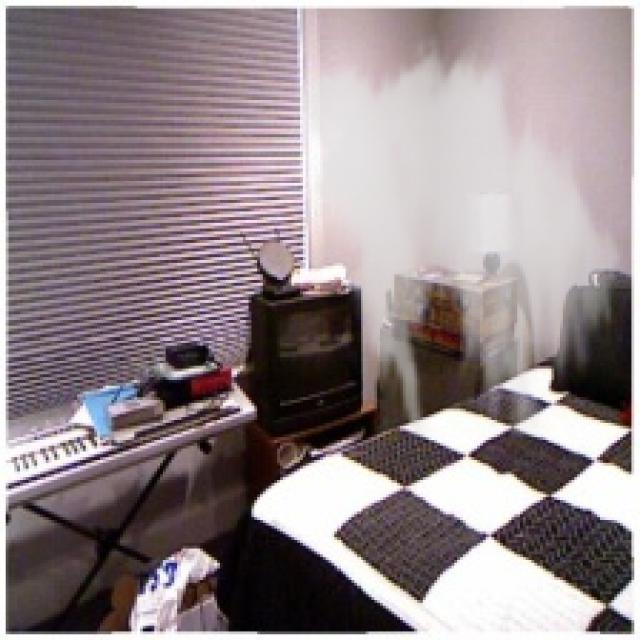Smoke: (288, 34, 632, 437)
